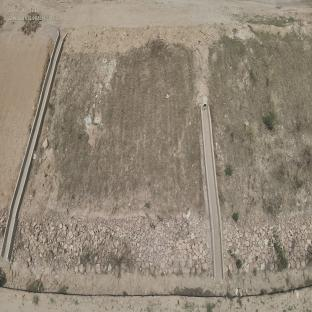rock_toe: (12, 210, 211, 278), (223, 214, 312, 283)
slope_drain: (1, 28, 67, 261), (200, 96, 224, 284)
toe_drain: (0, 271, 310, 298)
